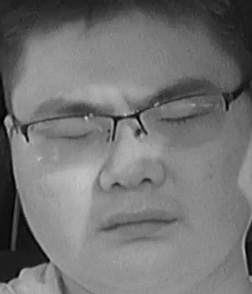blink: (53, 126, 94, 144), (162, 112, 204, 126)
glass: (137, 91, 225, 149), (23, 114, 114, 162)
mouth: (101, 205, 175, 240)
